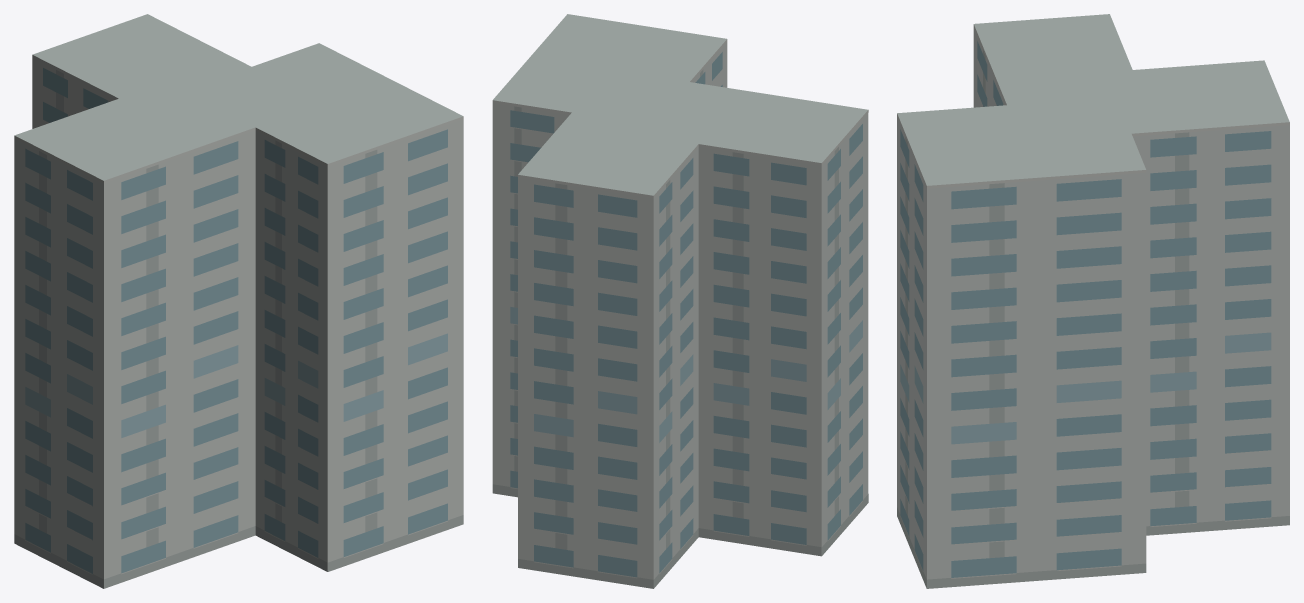
Rendered from residential-35569641-d897-4351-9c64-5b9915df95a1.glb.
3 views of the same model, side by side, from view 1: azimuth 30°, elevation 25°; view 2: azimuth 150°, elevation 25°; view 3: azimuth 270°, elevation 25° (orthographic). The views are drawn at different scales.
Visible parts, largest first — view 1: residential-35569641-d897-4351-9c64-5b9915df95a1.tmp; view 2: residential-35569641-d897-4351-9c64-5b9915df95a1.tmp; view 3: residential-35569641-d897-4351-9c64-5b9915df95a1.tmp.
Part boxes in pixels (bbox=[...]): residential-35569641-d897-4351-9c64-5b9915df95a1.tmp: bbox=[14, 14, 463, 588]; residential-35569641-d897-4351-9c64-5b9915df95a1.tmp: bbox=[492, 14, 868, 588]; residential-35569641-d897-4351-9c64-5b9915df95a1.tmp: bbox=[897, 14, 1289, 588].
Bounding box in the file's own units: 31.1 × 34 × 30.03.
